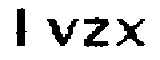l: (12, 3, 36, 51)
v: (44, 14, 79, 49)
x: (115, 15, 149, 50)
z: (81, 14, 111, 51)
